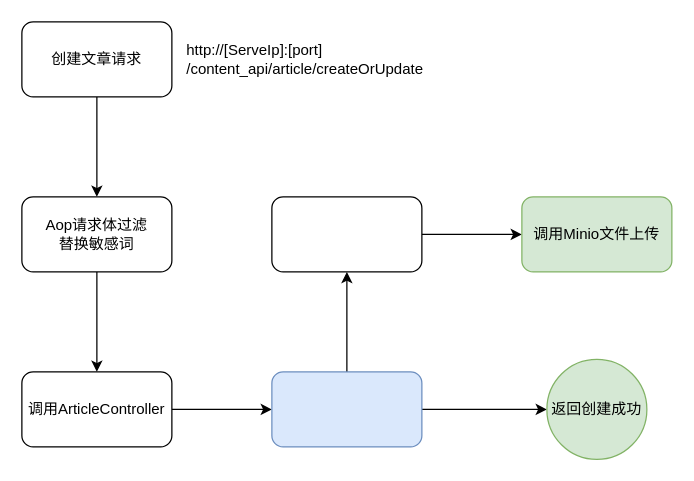
Some shapes in this 694 by 481 pixel diagram are drawn without their labels. Each missing label, with the box of its shape:
消息队列发送: (271, 371, 422, 447)
队列消费: (271, 196, 422, 272)
